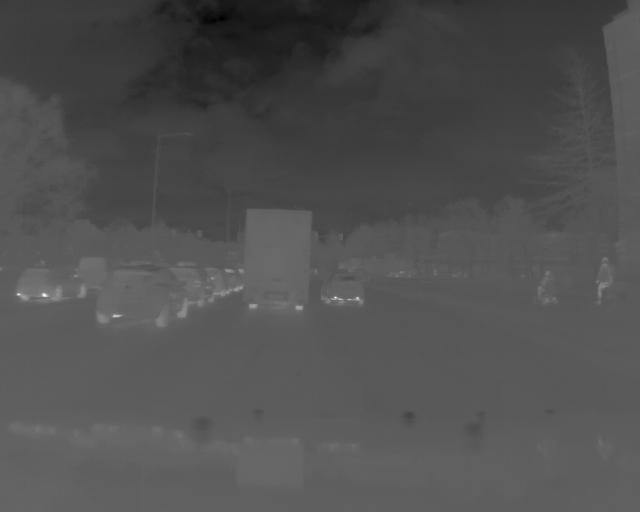car: (90, 261, 198, 329), (15, 257, 89, 301), (205, 262, 239, 296)
person: (241, 203, 315, 314), (319, 269, 375, 307), (596, 253, 623, 308), (538, 263, 559, 303)
